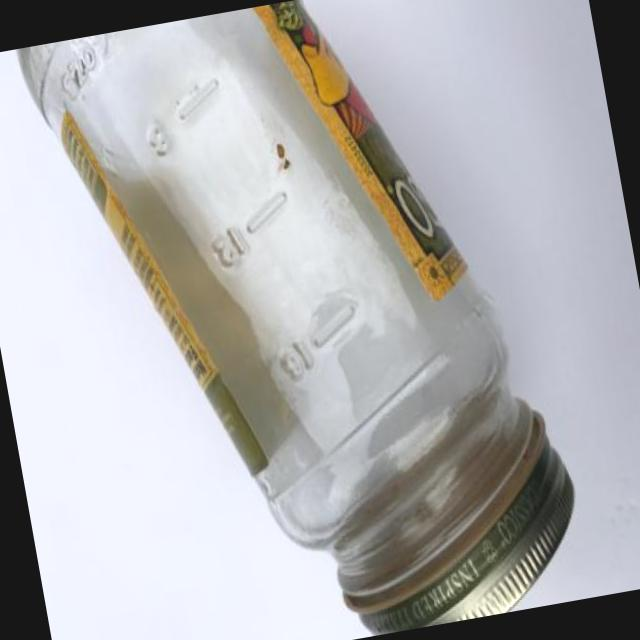chai_thuy_tinh: (18, 0, 545, 612)
kim_loai: (361, 438, 575, 635)
